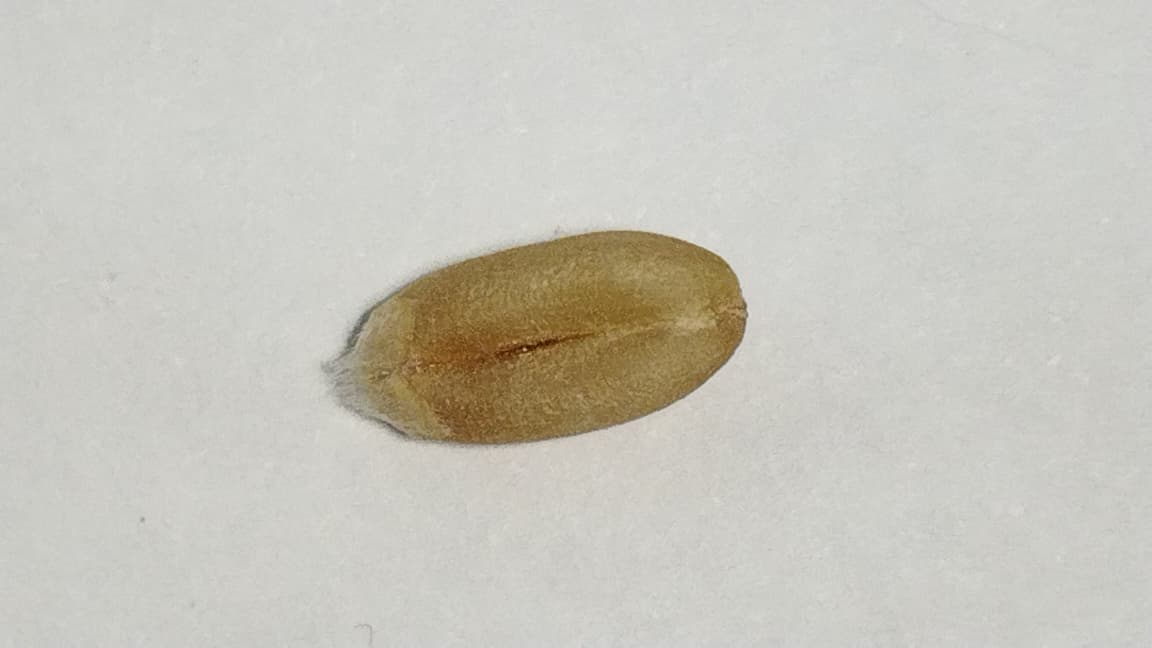healthy: (333, 232, 746, 443)
